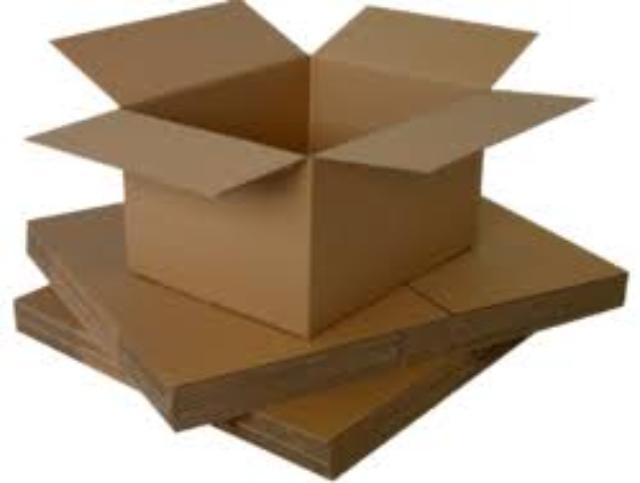cardboard paper: (28, 0, 581, 333), (18, 204, 622, 474)
